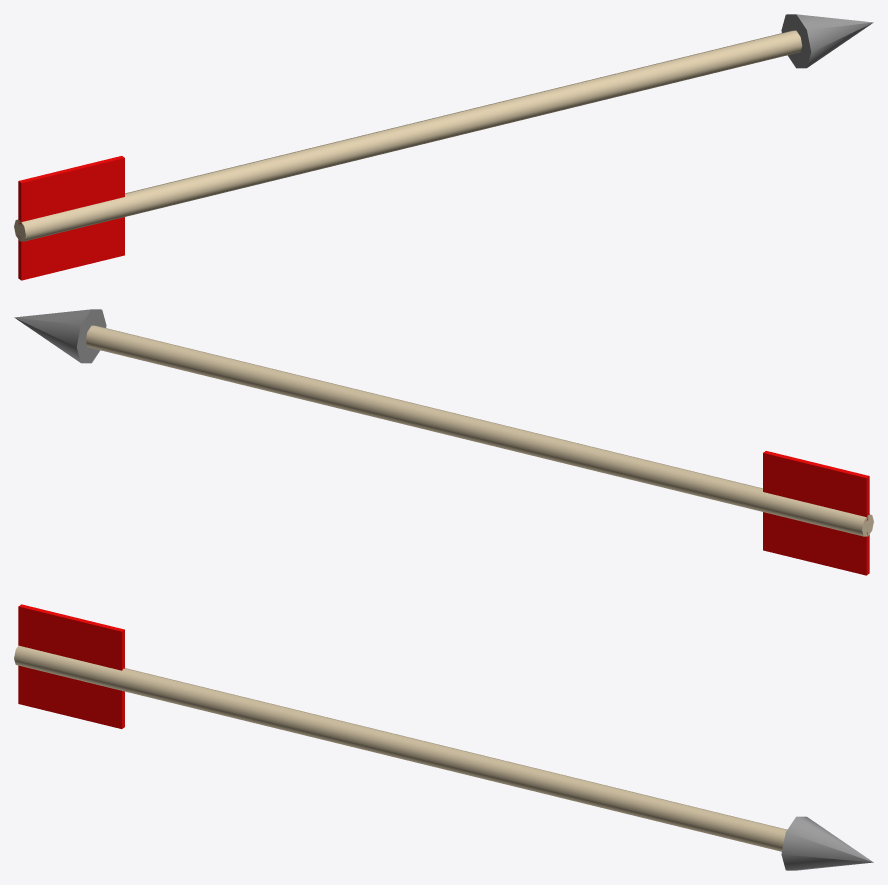
The model's file is default_arrow.glb.
3 views of the same model, one above another, from view 1: azimuth 30°, elevation 25°; view 2: azimuth 150°, elevation 25°; view 3: azimuth 330°, elevation 25° (orthographic).
Visible parts, largest first — view 1: Arrow; view 2: Arrow; view 3: Arrow.
Boxes of the visible parts, box(x1,y1,x2,y2) form: Arrow: box(14, 14, 873, 280); Arrow: box(14, 309, 873, 575); Arrow: box(14, 604, 873, 870).
Bounding box in the file's own units: 1.65 × 0.18 × 0.1.
